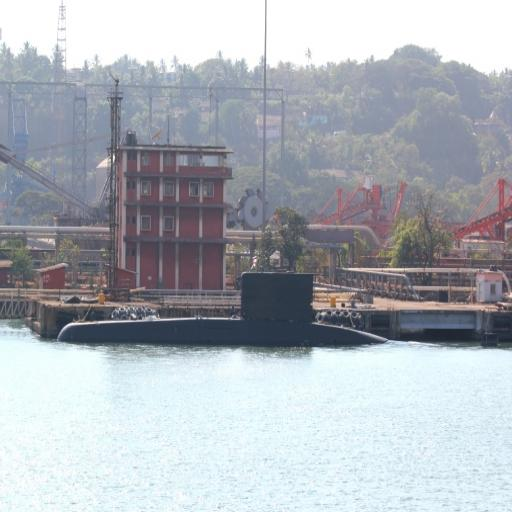submarine: (56, 269, 400, 348)
